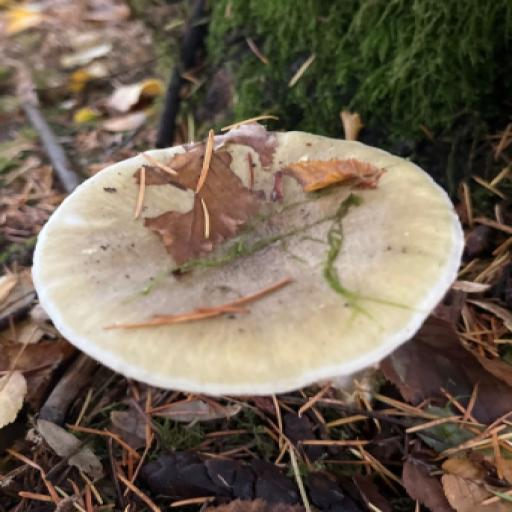Death Cap: (34, 108, 481, 414)
